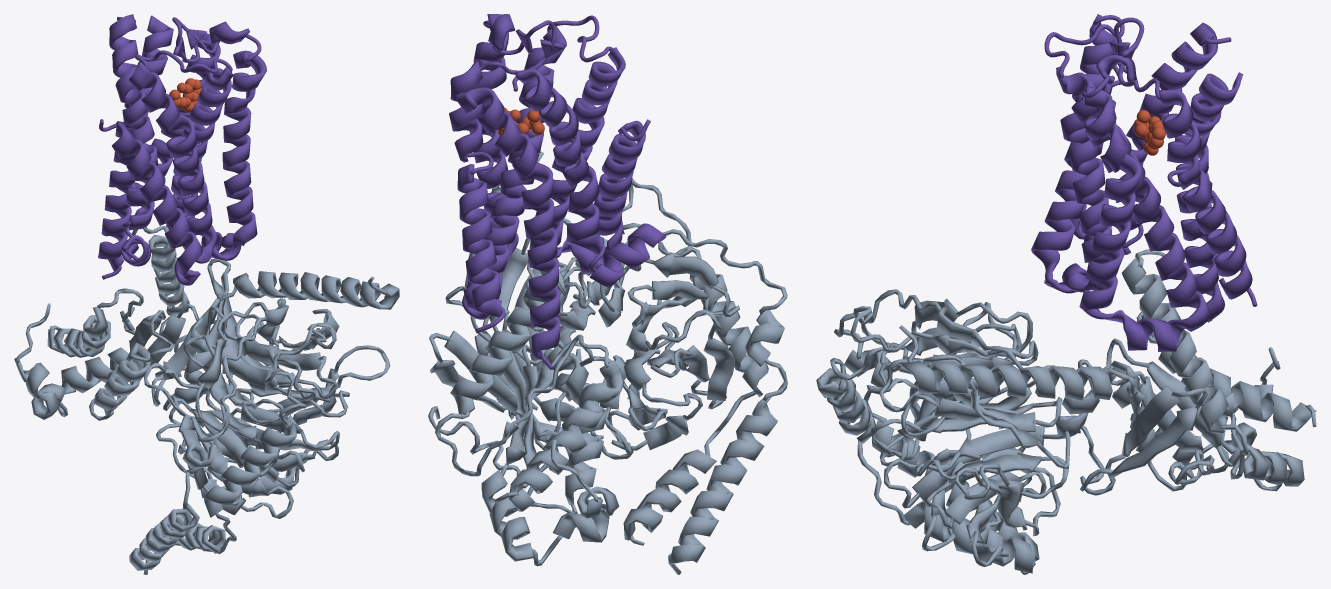
File: 5ht2a-psilocin-9as8.glb
The picture shows the model from 3 angles, left to right: view 1: azimuth 30°, elevation 25°; view 2: azimuth 150°, elevation 25°; view 3: azimuth 270°, elevation 25°; orthographic projection. The views are drawn at different scales.
Parts seen in each view (by area): view 1: gprotein, receptor, ligand; view 2: gprotein, receptor, ligand; view 3: gprotein, receptor, ligand.
Boxes of the visible parts, x1=… form: gprotein: x1=14, y1=226, x2=399, y2=574; receptor: x1=98, y1=14, x2=266, y2=285; ligand: x1=169, y1=78, x2=201, y2=112; gprotein: x1=428, y1=151, x2=787, y2=574; receptor: x1=449, y1=14, x2=666, y2=369; ligand: x1=498, y1=107, x2=544, y2=135; gprotein: x1=816, y1=249, x2=1316, y2=574; receptor: x1=1031, y1=14, x2=1257, y2=351; ligand: x1=1134, y1=110, x2=1165, y2=155.
Size of the model in its own units: 5.9 by 11.21 by 8.48.
